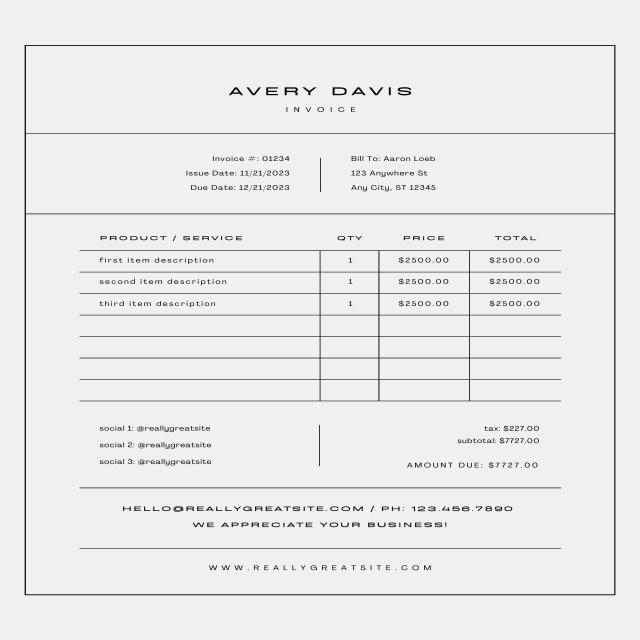ROI: (79, 228, 575, 403), (111, 500, 516, 534), (390, 415, 547, 472), (81, 422, 233, 476), (222, 80, 420, 121), (184, 148, 297, 199), (344, 146, 443, 194), (205, 562, 436, 576)
